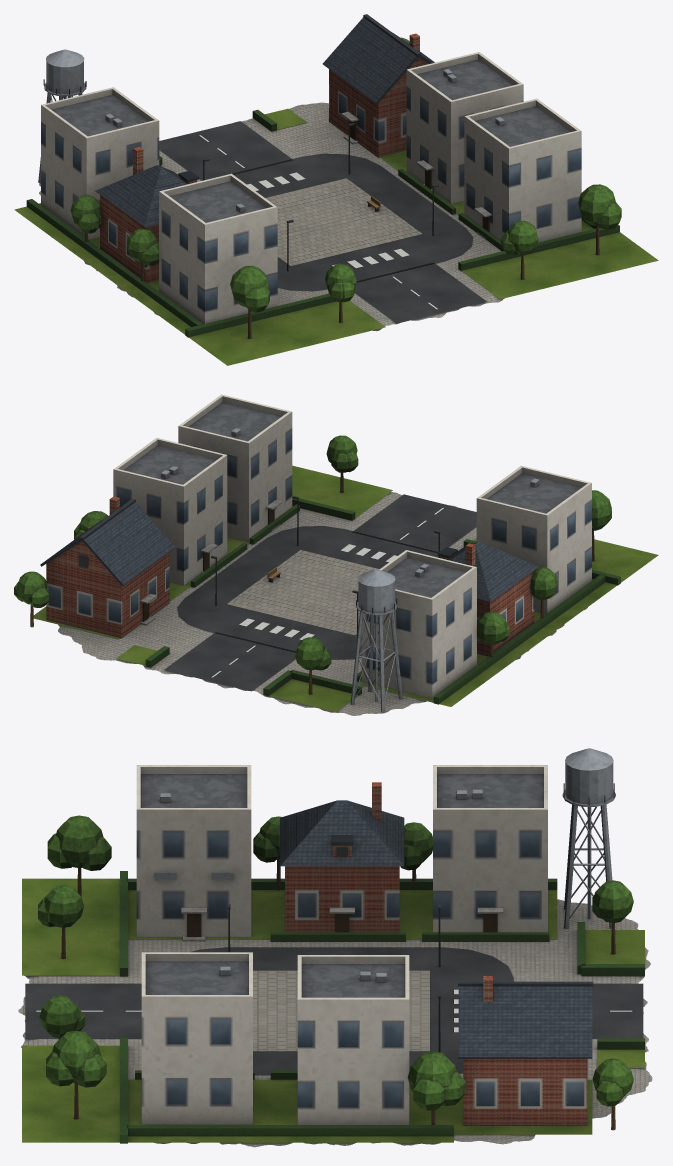
Rendered from modern-town-small-a.glb.
The picture shows the model from 3 angles, top to bottom: view 1: azimuth 30°, elevation 25°; view 2: azimuth 150°, elevation 25°; view 3: azimuth 270°, elevation 25°; orthographic projection. The views are drawn at different scales.
Visible parts, largest first — view 1: LOD0; view 2: LOD0; view 3: LOD0.
Boxes of the visible parts, <box> form: LOD0: <box>14,14,658,365</box>; LOD0: <box>14,394,658,715</box>; LOD0: <box>18,748,652,1147</box>.
Size of what is drawn, in the model's own units: 4.02 by 1.2 by 4.05.
Materials: 2 (2 with a texture image).
